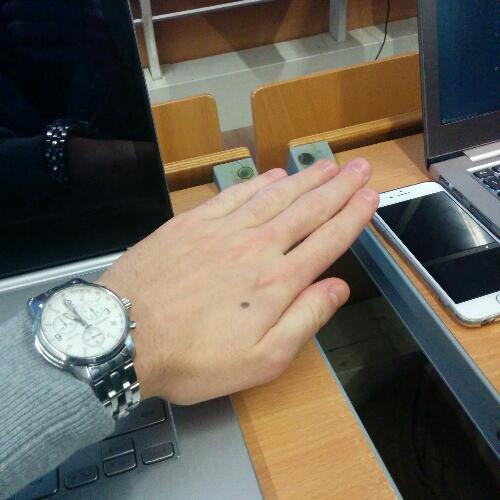paper: (90, 151, 387, 416)
